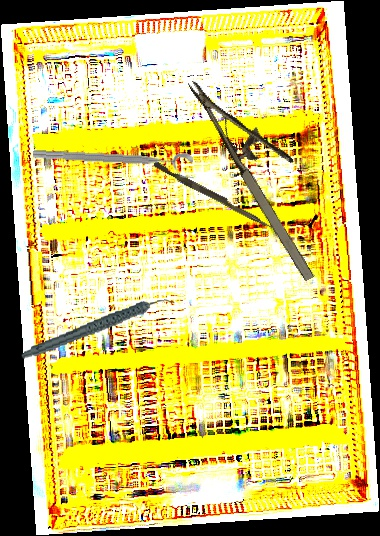Fixation Ring: (32, 144, 194, 181)
Handpiece: (15, 296, 181, 361)
Needle Holder: (187, 57, 348, 285)
Pusher: (151, 160, 276, 231)
